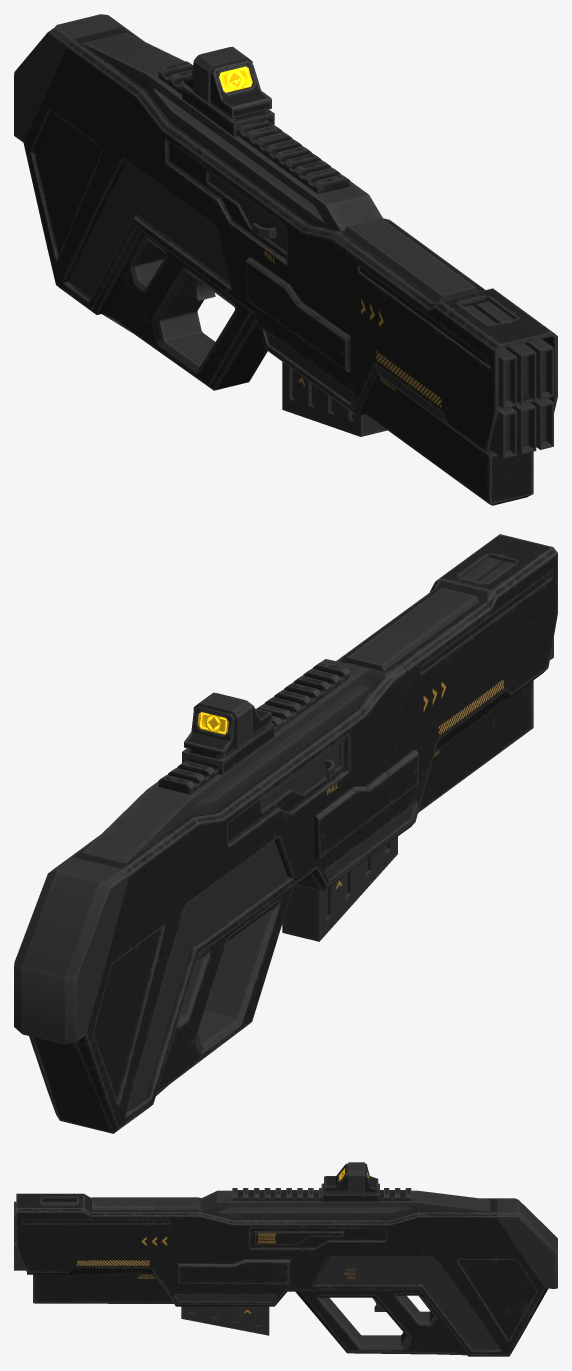
3 views of the same model, one above another, from view 1: azimuth 30°, elevation 25°; view 2: azimuth 150°, elevation 25°; view 3: azimuth 270°, elevation 25° (orthographic). The views are drawn at different scales.
Parts seen in each view (by area): view 1: polySurface30_BlackCoat_0, polySurface30_GreyCoat_0, polySurface30_BlackShadow_0, Sight_BlackGlass_0; view 2: polySurface30_BlackCoat_0, polySurface30_GreyCoat_0; view 3: polySurface30_BlackCoat_0, polySurface30_GreyCoat_0.
Boxes of the visible parts, bbox=[...] form: polySurface30_BlackCoat_0: bbox=[23, 27, 557, 505]; polySurface30_GreyCoat_0: bbox=[14, 14, 553, 458]; polySurface30_BlackShadow_0: bbox=[505, 351, 546, 450]; Sight_BlackGlass_0: bbox=[219, 66, 252, 92]; polySurface30_BlackCoat_0: bbox=[29, 534, 557, 1133]; polySurface30_GreyCoat_0: bbox=[14, 554, 553, 1109]; polySurface30_BlackCoat_0: bbox=[16, 1163, 547, 1356]; polySurface30_GreyCoat_0: bbox=[14, 1162, 557, 1349].
Size of the model in its own units: 0.108 by 0.4492 by 1.21.
4 materials, 3 textured.
